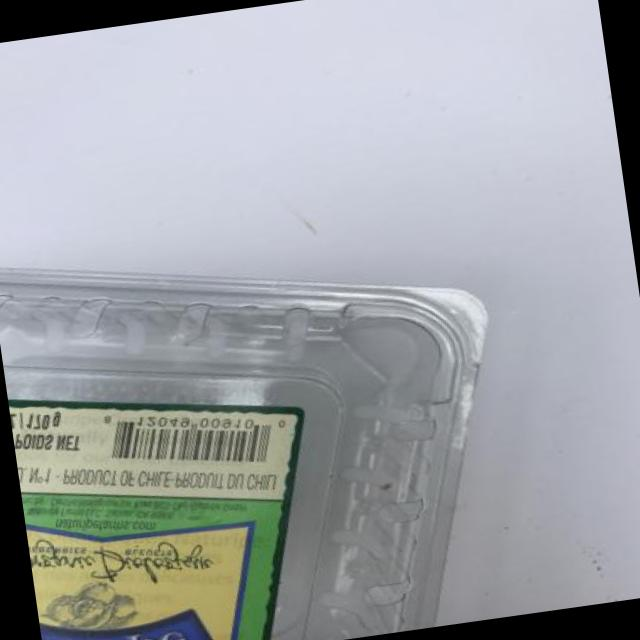Clamshell: (0, 193, 547, 640)
Label: (7, 355, 338, 640)
